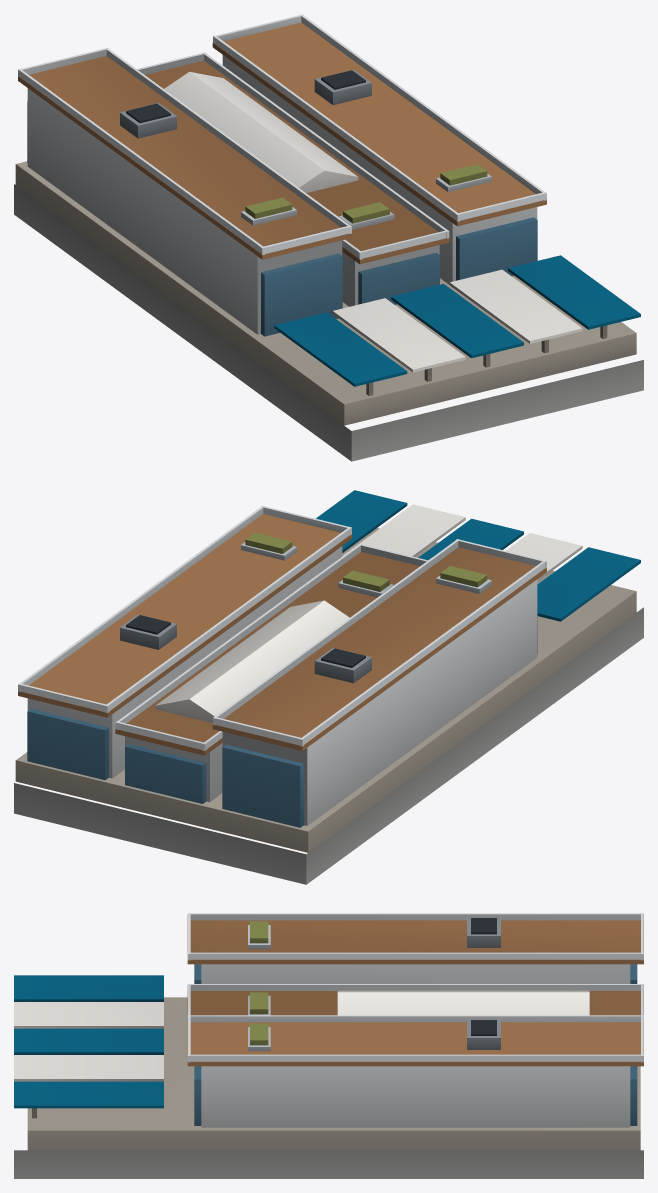
The model's file is retail-block-2.glb.
3 views of the same model, one above another, from view 1: azimuth 30°, elevation 25°; view 2: azimuth 150°, elevation 25°; view 3: azimuth 270°, elevation 25° (orthographic). The views are drawn at different scales.
Visible parts, largest first — view 1: retail-block-2; view 2: retail-block-2; view 3: retail-block-2.
Boxes of the visible parts, box(x1,y1,x2,y2) form: retail-block-2: box(14, 14, 643, 461); retail-block-2: box(14, 490, 643, 884); retail-block-2: box(14, 913, 643, 1178).
Bounding box in the file's own units: 30 × 15 × 60.
